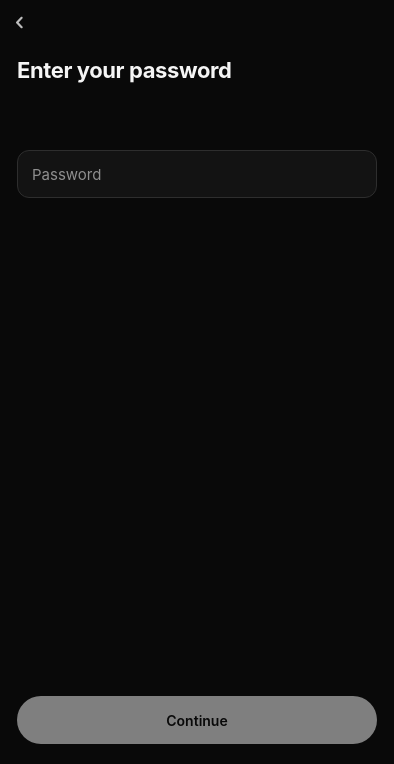
Test: first backup › copies the words joined by single spaces and says Copied
This screenshot has width=394, height=764.
In the password field labelled "Password": (197, 174) [17,150,377,198], type "pw"
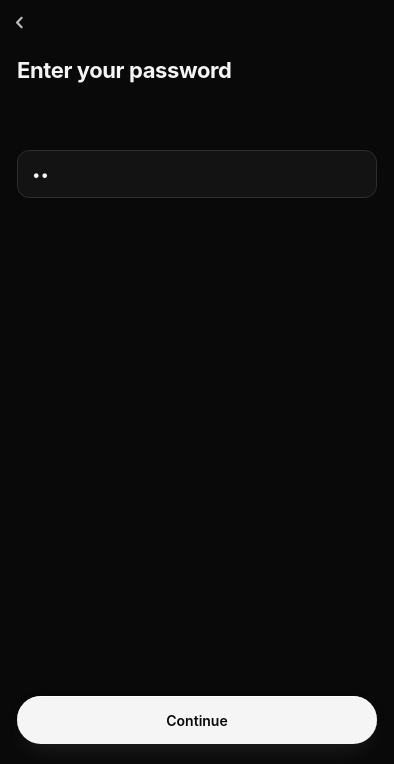
Click the button "Continue": (197, 720) [17,696,377,744]
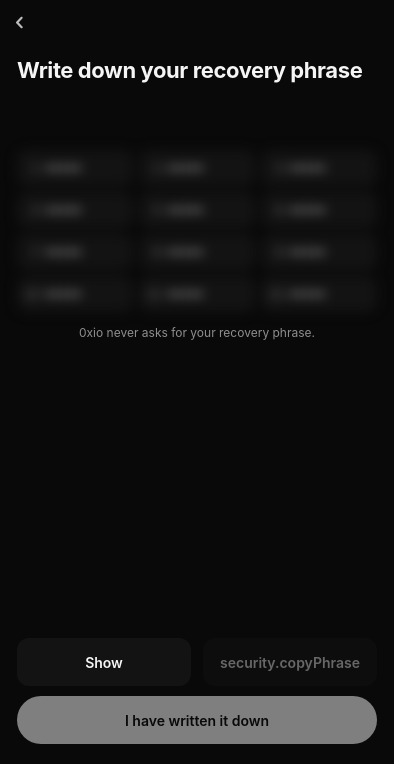
Click the button "Show": (104, 662) [17,638,191,686]
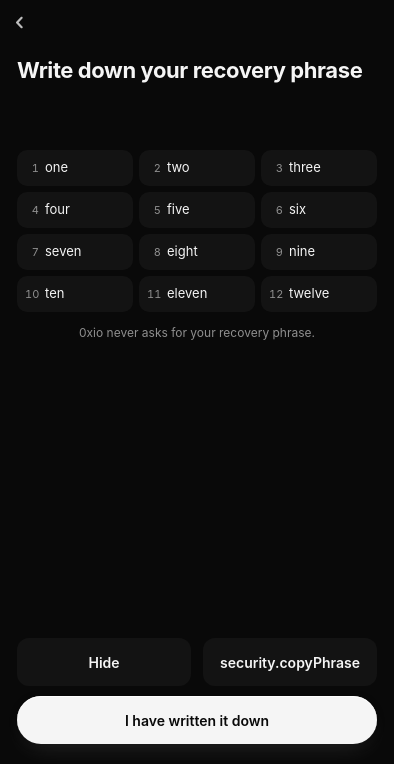
Click the button "security.copyPhrase": (290, 662) [203,638,377,686]
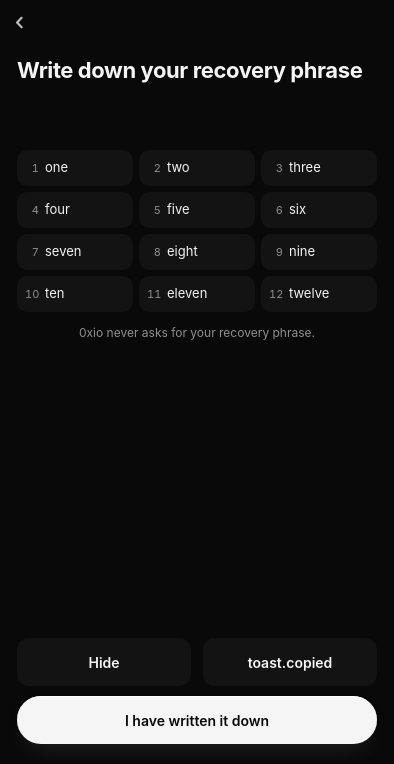
Check: the button "toast.copied" is shown, box [203,638,377,686]
